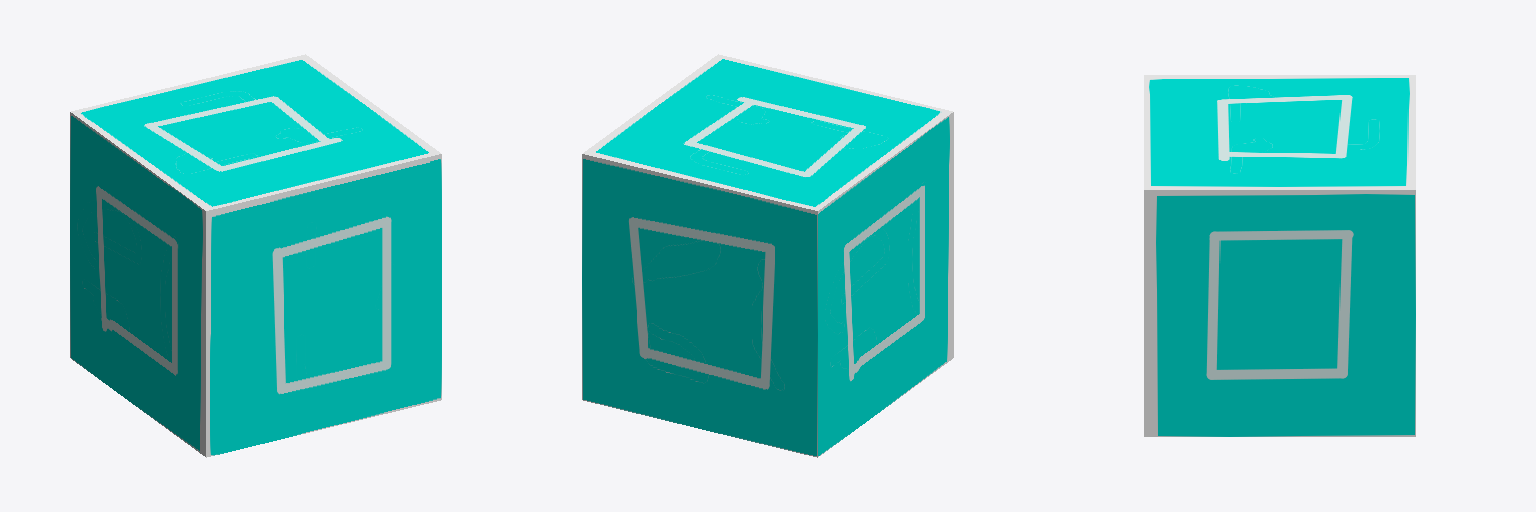
The picture shows the model from 3 angles: view 1: azimuth 30°, elevation 25°; view 2: azimuth 150°, elevation 25°; view 3: azimuth 270°, elevation 25°; orthographic projection.
Visible parts, largest first — view 1: 立方体; view 2: 立方体; view 3: 立方体.
Boxes of the visible parts, <box> form: 立方体: <box>70,54,441,457</box>; 立方体: <box>582,54,953,457</box>; 立方体: <box>1144,75,1415,436</box>.
Bounding box in the file's own units: 2 × 2 × 2.
Materials: 1 (1 with a texture image).